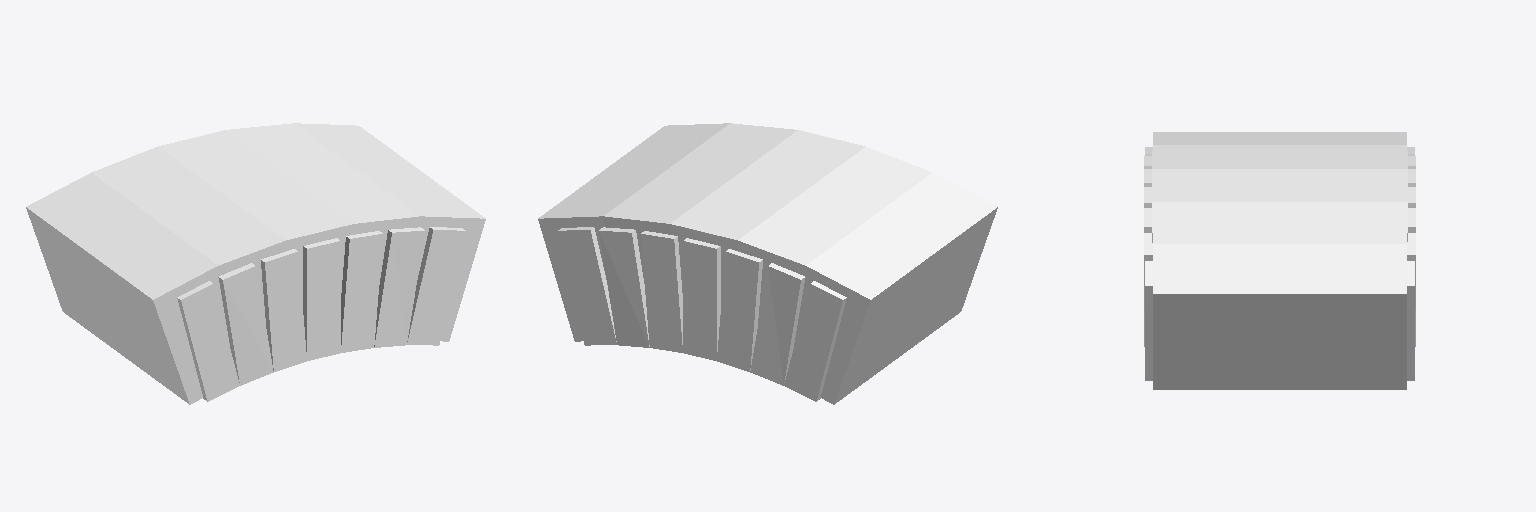
The model's file is lime_mortar_orange_clay_brick_segmental_arch_3_middle.obj.
3 renders of one model, left to right at view 1: azimuth 30°, elevation 25°; view 2: azimuth 150°, elevation 25°; view 3: azimuth 270°, elevation 25°, orthographic.
Visible parts, largest first — view 1: mortar_middle, bricks_middle; view 2: mortar_middle, bricks_middle; view 3: mortar_middle, bricks_middle.
Part boxes in pixels (left/top/right/bottom): mortar_middle: left=26, top=123, right=485, bottom=404; bricks_middle: left=177, top=227, right=465, bottom=401; mortar_middle: left=538, top=123, right=997, bottom=404; bricks_middle: left=558, top=227, right=846, bottom=401; mortar_middle: left=1152, top=132, right=1407, bottom=389; bricks_middle: left=1144, top=147, right=1415, bottom=380.
Bounding box in the file's own units: 1.55 × 0.6295 × 1.1.